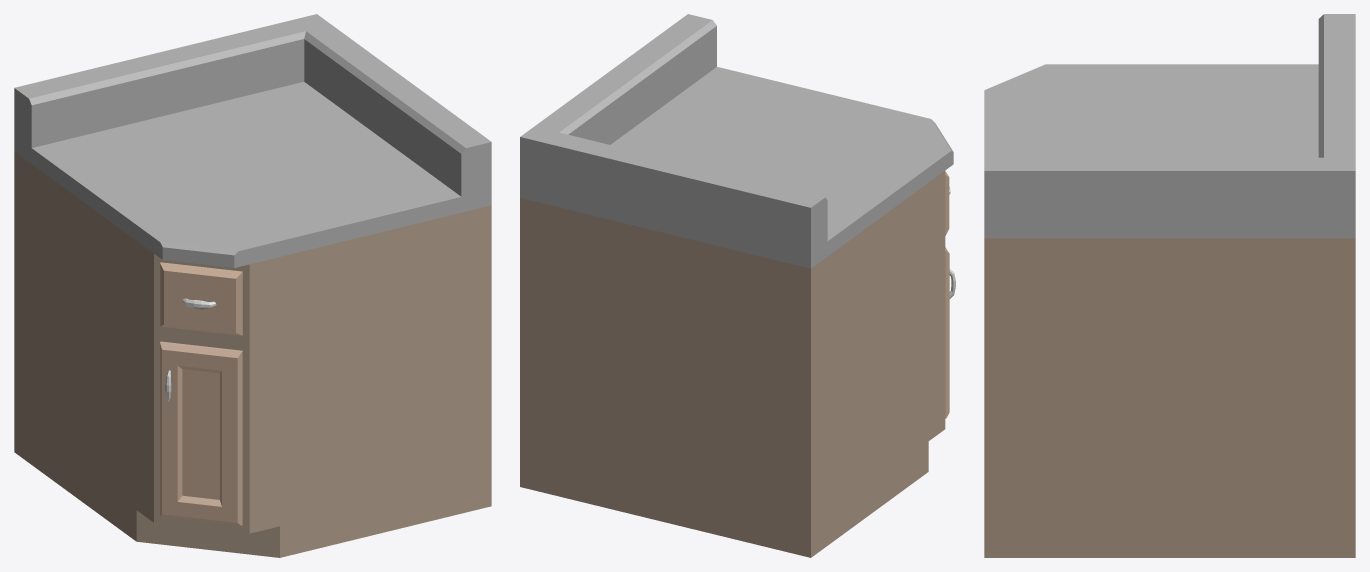
Rendered from Structure_Kitchen_Cabinet_Base_Corner.glb.
3 views of the same model, side by side, from view 1: azimuth 30°, elevation 25°; view 2: azimuth 150°, elevation 25°; view 3: azimuth 270°, elevation 25° (orthographic). The views are drawn at different scales.
Parts seen in each view (by area): view 1: Structure_Kitchen_Cabinet_Base_Corner; view 2: Structure_Kitchen_Cabinet_Base_Corner; view 3: Structure_Kitchen_Cabinet_Base_Corner.
Part boxes in pixels (bbox=[...]): Structure_Kitchen_Cabinet_Base_Corner: bbox=[14, 14, 491, 557]; Structure_Kitchen_Cabinet_Base_Corner: bbox=[520, 14, 955, 557]; Structure_Kitchen_Cabinet_Base_Corner: bbox=[984, 14, 1355, 557].
Size of the model in its own units: 1 by 1.15 by 1.
